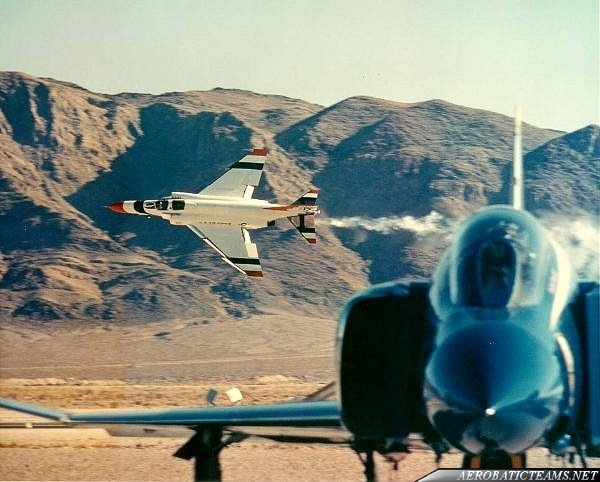F4: (1, 101, 600, 482), (101, 148, 321, 279)
